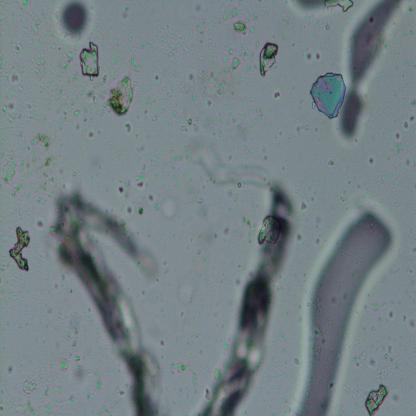Air bubble: (293, 202, 399, 414), (339, 0, 404, 142)
Background material: (161, 40, 255, 108), (62, 75, 109, 133), (22, 1, 50, 76), (26, 132, 57, 192), (211, 108, 256, 148), (310, 72, 346, 121), (59, 0, 92, 41), (278, 0, 322, 29), (7, 225, 32, 276), (94, 31, 128, 67), (155, 149, 188, 184), (108, 78, 136, 116), (77, 41, 102, 80), (173, 362, 200, 394), (0, 55, 23, 92), (364, 382, 388, 414), (258, 41, 279, 77), (260, 213, 282, 245), (37, 78, 61, 106), (366, 296, 394, 320), (0, 92, 20, 122), (192, 20, 216, 44), (302, 18, 330, 38), (379, 342, 395, 377), (250, 0, 274, 22), (57, 51, 76, 77), (160, 196, 182, 218), (229, 17, 253, 37), (353, 349, 377, 369), (0, 158, 19, 183), (320, 0, 355, 13), (242, 209, 257, 236), (25, 97, 39, 125), (146, 190, 162, 214), (154, 22, 170, 46), (8, 36, 22, 62), (21, 376, 39, 395), (134, 166, 148, 190), (117, 179, 132, 199), (18, 198, 33, 218), (126, 120, 140, 139), (58, 354, 70, 376), (220, 221, 234, 238), (12, 184, 26, 199), (135, 201, 148, 217), (130, 56, 141, 74), (400, 316, 416, 328), (301, 44, 313, 60), (230, 5, 244, 18), (297, 194, 307, 212), (323, 156, 337, 168), (150, 68, 162, 82), (272, 83, 281, 101), (406, 108, 416, 124), (120, 7, 130, 21), (137, 146, 147, 157), (290, 355, 301, 365), (126, 203, 134, 215), (236, 180, 244, 191), (89, 130, 97, 141), (312, 49, 320, 60), (395, 131, 402, 143), (36, 194, 43, 206), (407, 98, 416, 107), (404, 114, 409, 130), (178, 306, 185, 317), (38, 220, 45, 231), (314, 233, 320, 245), (160, 335, 164, 352), (296, 232, 302, 243), (370, 153, 375, 166), (180, 124, 188, 132), (304, 124, 310, 132), (405, 162, 411, 169), (73, 166, 76, 179), (156, 115, 160, 124), (297, 127, 301, 135), (329, 24, 332, 31), (188, 121, 192, 126), (412, 280, 414, 287)
Cellulose filter fibre: (190, 145, 300, 416), (46, 190, 164, 415)
